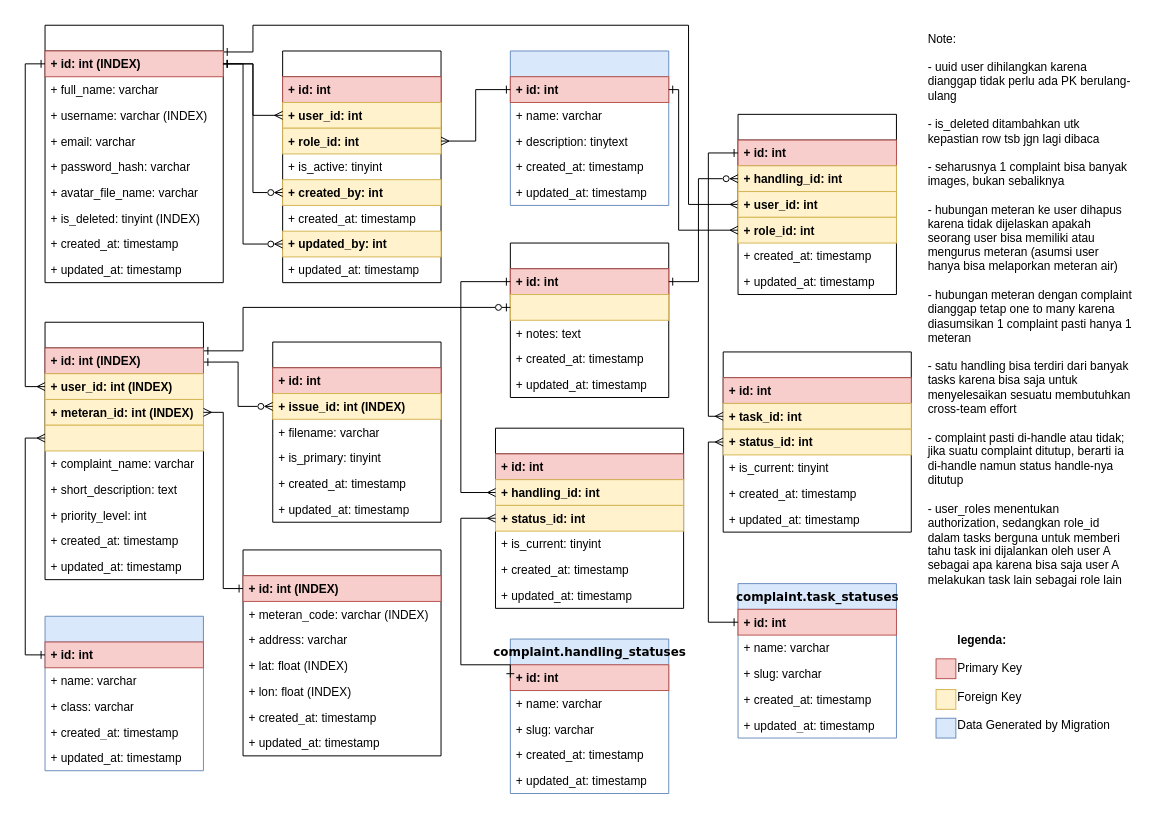
Image size: 1151x814. Some labels were removed from this diagram. The box of each missing label's shape, as (x1, y1, x2, y2) in pixels:
+ category_id: int (INDEX): (44, 424, 203, 451)
+ complaint_id: int: (509, 294, 669, 320)
complaint.handling_status_histories: (495, 427, 684, 608)
complaint.handlings: (509, 242, 669, 397)
complaint.issue_categories: (44, 615, 203, 771)
complaint.issue_images: (272, 341, 441, 522)
complaint.issues: (44, 321, 203, 580)
complaint.task_status_histories: (722, 351, 911, 532)
public.meterans: (242, 549, 441, 756)
public.roles: (509, 50, 669, 205)
public.tasks: (737, 113, 896, 295)
public.user_roles: (282, 50, 441, 283)
public.users: (44, 24, 223, 283)
